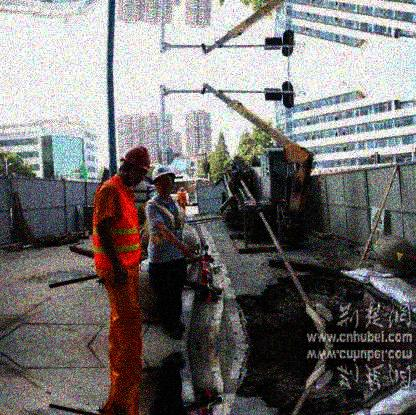helmet: (119, 146, 152, 196), (153, 166, 175, 200)
